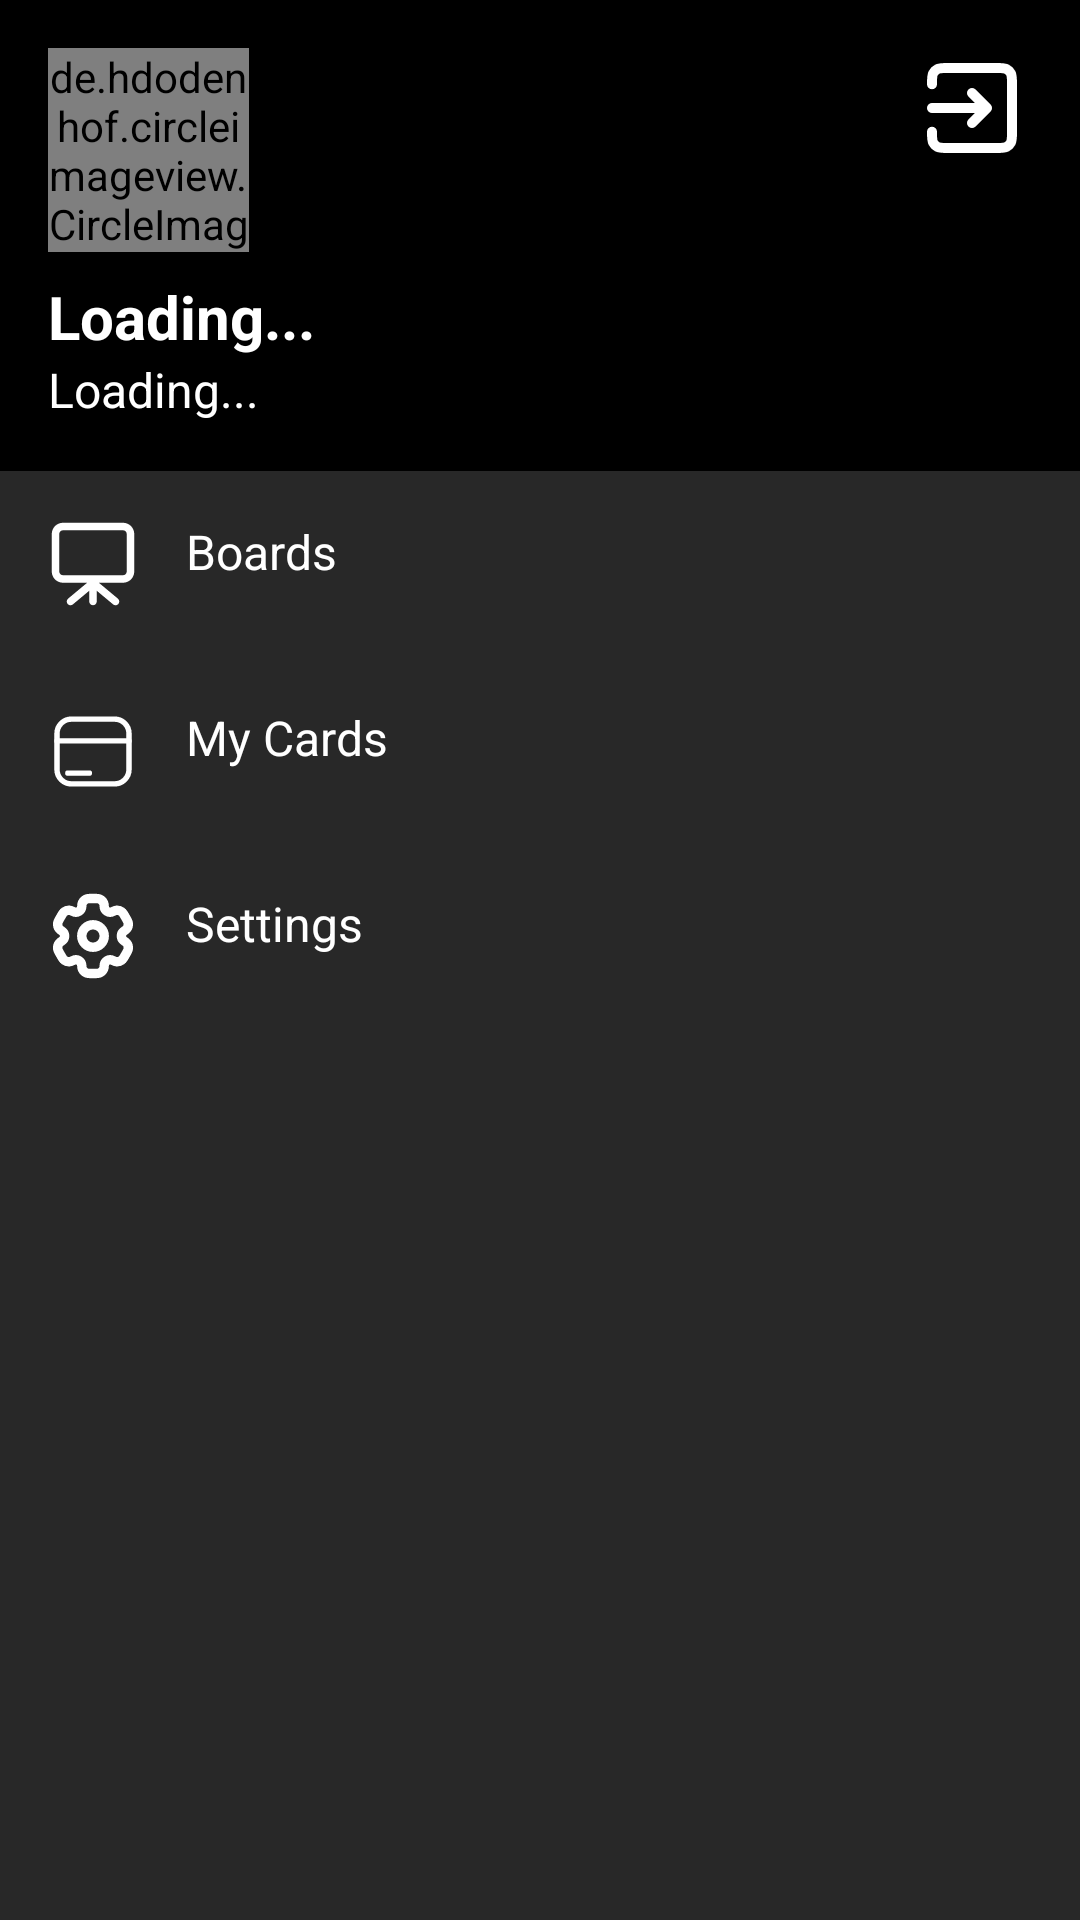

Icons on this 1080*1920 Android screen, each with the point to tap as point (x, y):
exit: point (972, 108)
